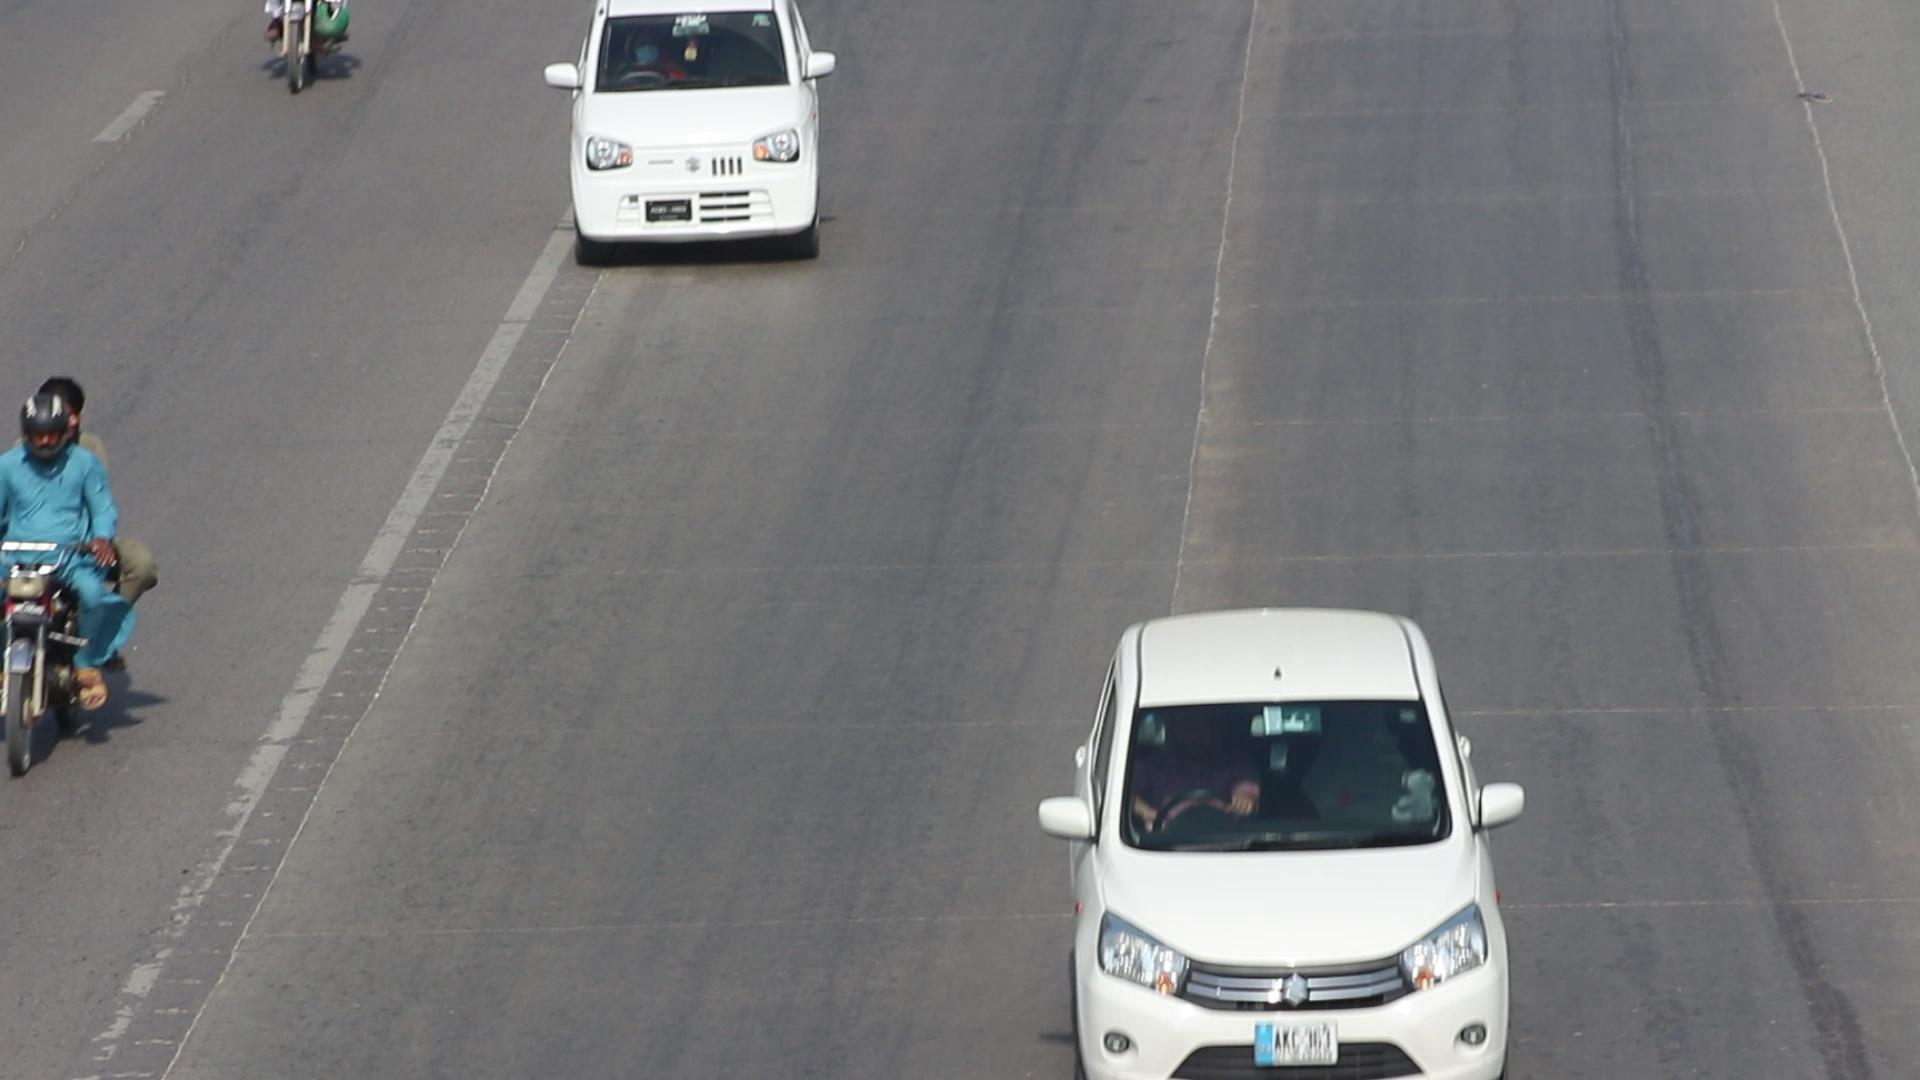windshield: (591, 0, 807, 107)
